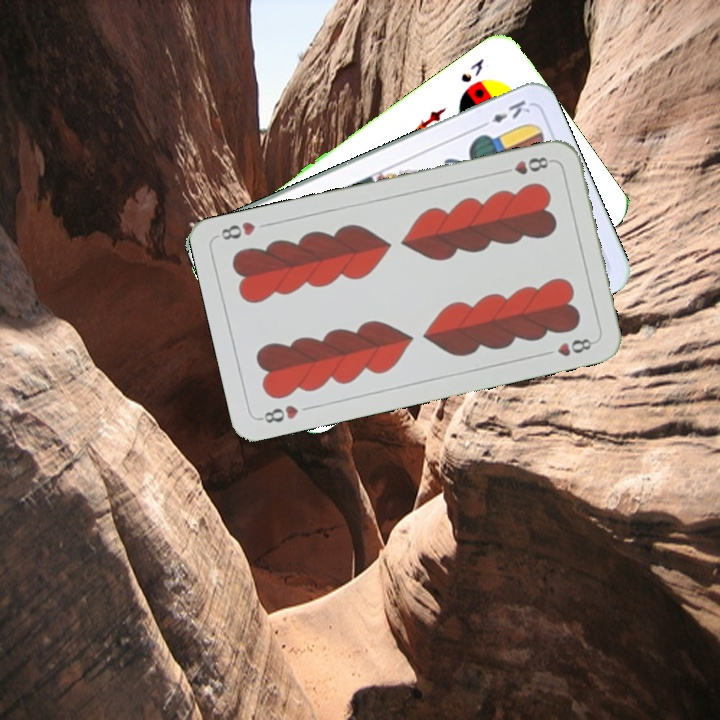EK: (475, 96, 533, 131)
H8: (497, 153, 555, 177), (255, 400, 301, 426)
SK: (456, 54, 487, 85)
